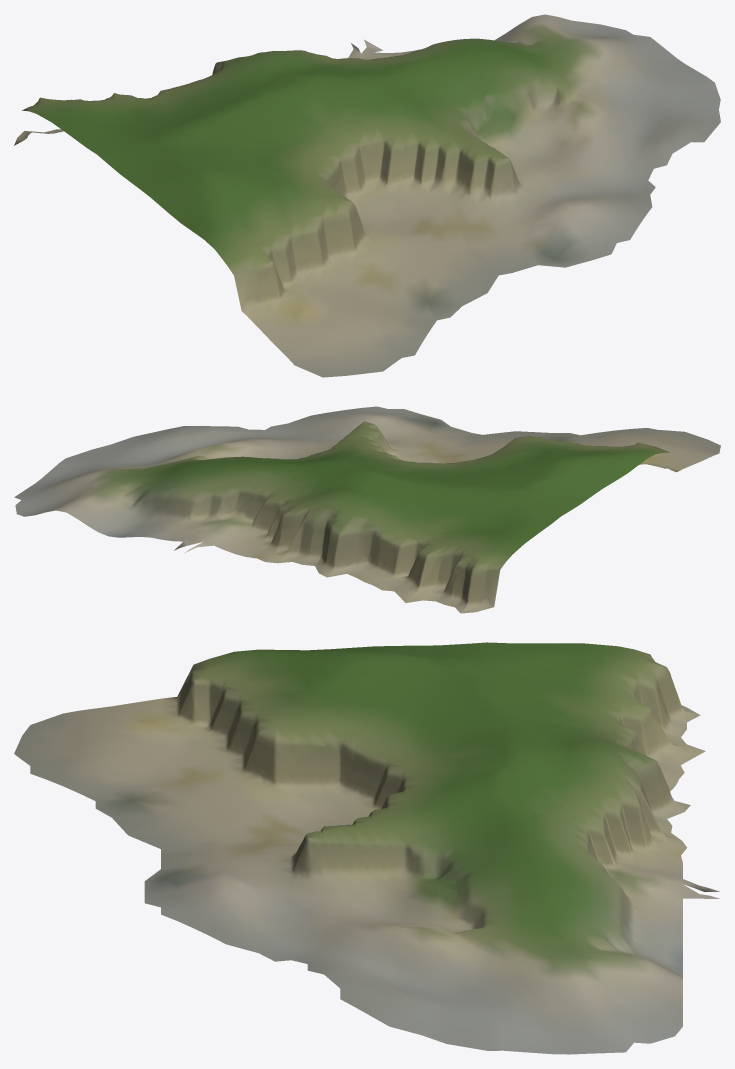
Rendered from coast_tile_x2z2_lod1.glb.
3 renders of one model, top to bottom at view 1: azimuth 30°, elevation 25°; view 2: azimuth 150°, elevation 25°; view 3: azimuth 270°, elevation 25°, orthographic. The views are drawn at different scales.
Visible parts, largest first — view 1: coast_tile_x2z2_lod1; view 2: coast_tile_x2z2_lod1; view 3: coast_tile_x2z2_lod1.
Part boxes in pixels (<box>): coast_tile_x2z2_lod1: <box>14,14,720,377</box>; coast_tile_x2z2_lod1: <box>14,406,720,613</box>; coast_tile_x2z2_lod1: <box>14,642,719,1054</box>.
Bounding box in the file's own units: 282 × 41.57 × 260.
